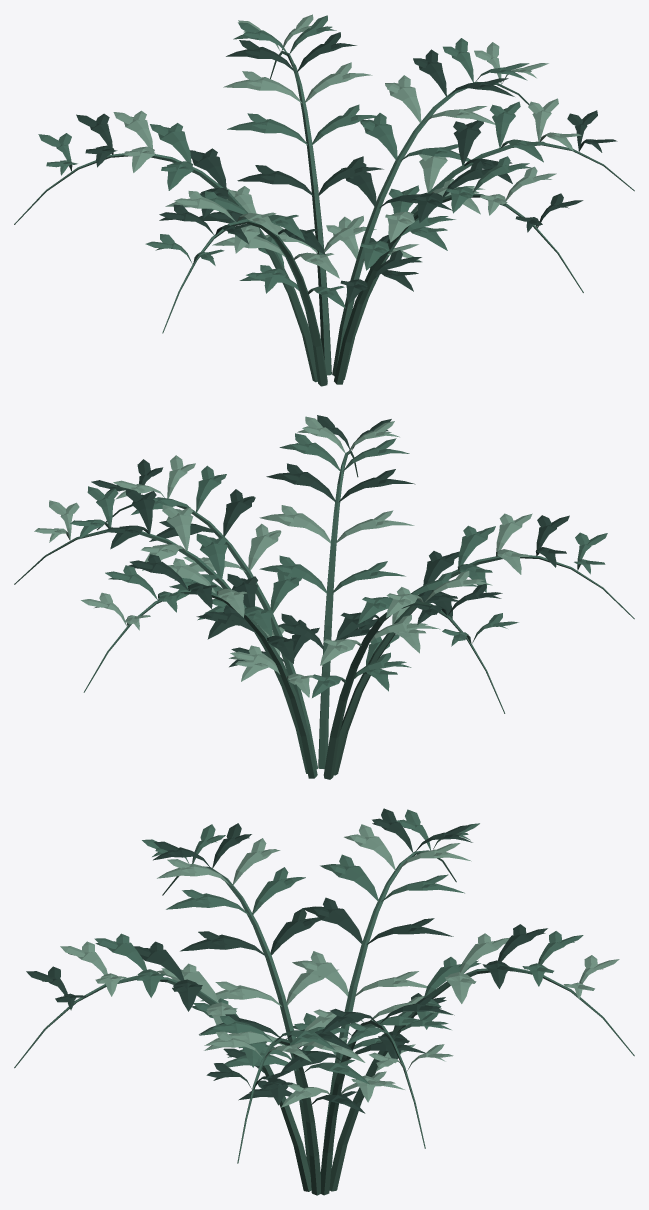
File: ALPINE_FERN.hi.glb
3 views of the same model, one above another, from view 1: azimuth 30°, elevation 25°; view 2: azimuth 150°, elevation 25°; view 3: azimuth 270°, elevation 25° (orthographic). The views are drawn at different scales.
Visible parts, largest first — view 1: ALPINE_FERN; view 2: ALPINE_FERN; view 3: ALPINE_FERN.
Part boxes in pixels (x1=…): ALPINE_FERN: x1=14, y1=14, x2=634, y2=386; ALPINE_FERN: x1=14, y1=415, x2=634, y2=779; ALPINE_FERN: x1=14, y1=808, x2=634, y2=1195.
Size of the model in its own units: 0.5086 by 0.2424 by 0.5036.
1 material, 1 textured.
